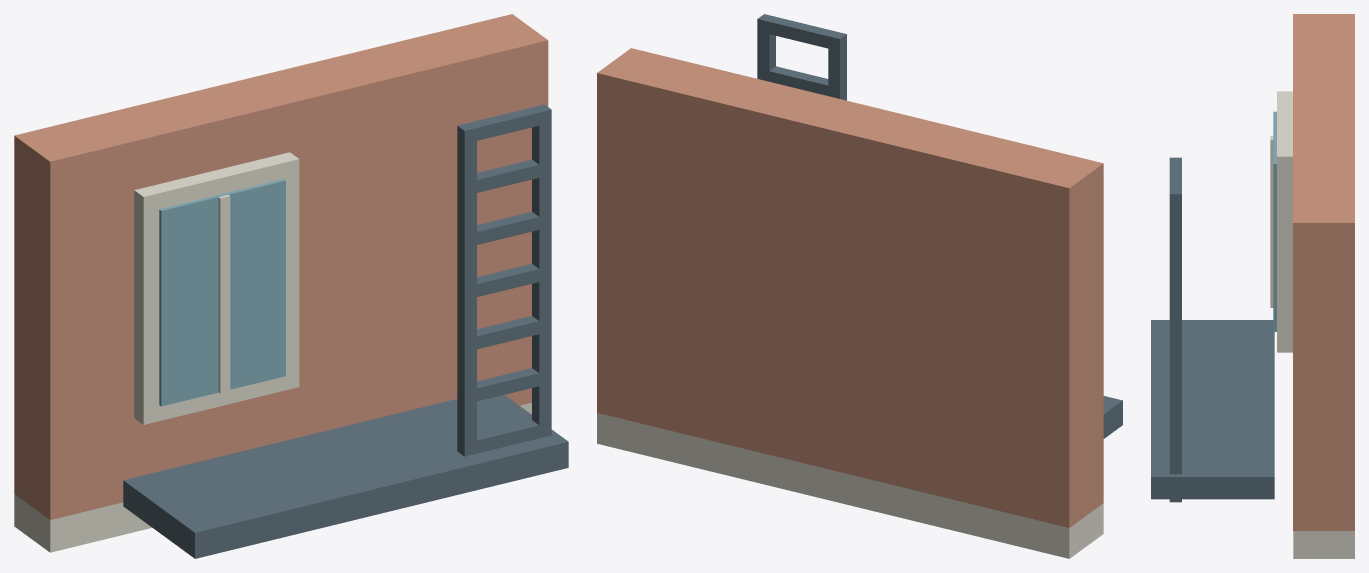
File: voxel-city-districts-fire-escape-bay-6b03a188__24807.glb
3 views of the same model, side by side, from view 1: azimuth 30°, elevation 25°; view 2: azimuth 150°, elevation 25°; view 3: azimuth 270°, elevation 25° (orthographic). The views are drawn at different scales.
Visible parts, largest first — view 1: fire-escape-bay-brick, fire-escape-bay-dark, fire-escape-bay-glass, fire-escape-bay-concrete; view 2: fire-escape-bay-brick, fire-escape-bay-concrete, fire-escape-bay-dark; view 3: fire-escape-bay-brick, fire-escape-bay-dark, fire-escape-bay-concrete, fire-escape-bay-glass.
Part boxes in pixels (x1,y1,x2,y2): fire-escape-bay-brick: (14, 14, 548, 519); fire-escape-bay-dark: (123, 104, 568, 558); fire-escape-bay-glass: (159, 179, 285, 406); fire-escape-bay-concrete: (14, 152, 531, 552); fire-escape-bay-brick: (597, 48, 1103, 527); fire-escape-bay-concrete: (597, 413, 1103, 558); fire-escape-bay-dark: (757, 14, 1122, 438); fire-escape-bay-brick: (1293, 14, 1354, 530); fire-escape-bay-dark: (1151, 157, 1274, 502); fire-escape-bay-concrete: (1270, 91, 1354, 558); fire-escape-bay-glass: (1273, 111, 1276, 331).
Bounding box in the file's own units: 4 × 3 × 1.65.
